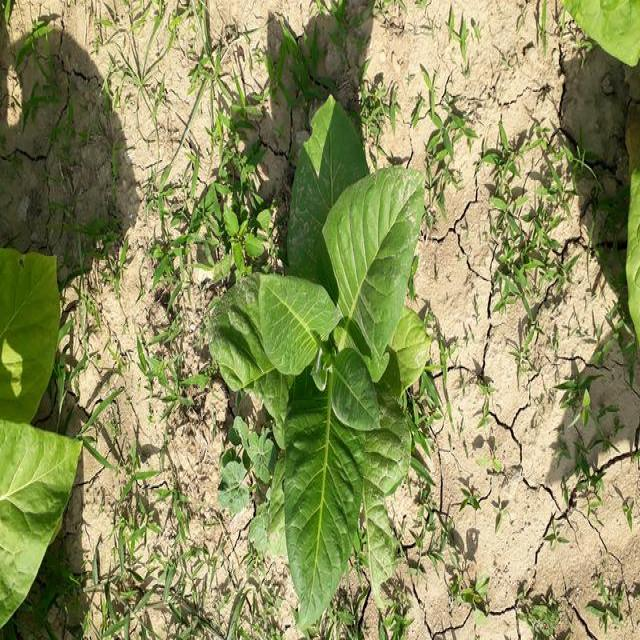crop: (230, 102, 426, 618), (0, 445, 81, 634), (0, 244, 53, 443)
